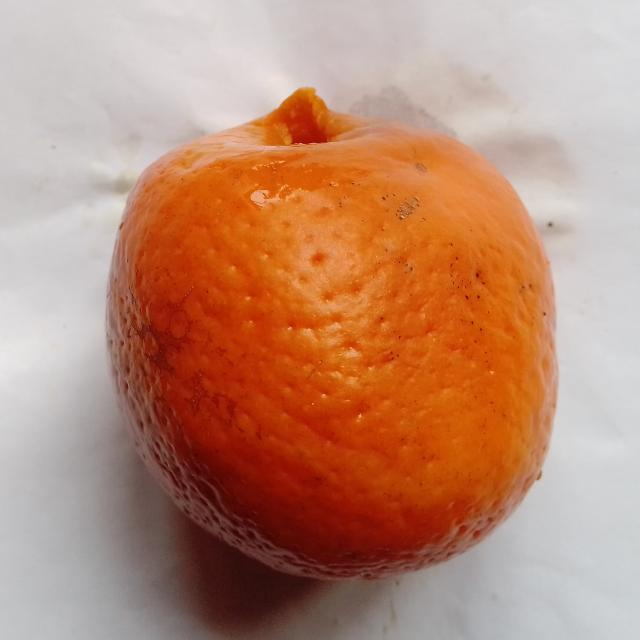orange: (108, 90, 556, 577)
